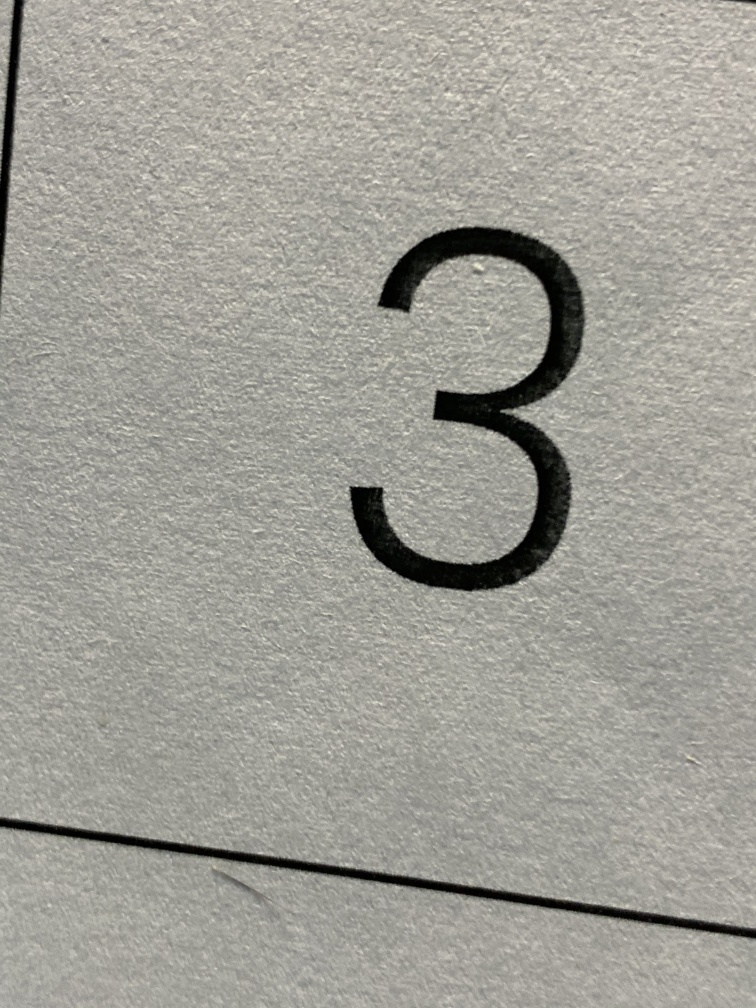three: (315, 180, 640, 646)
